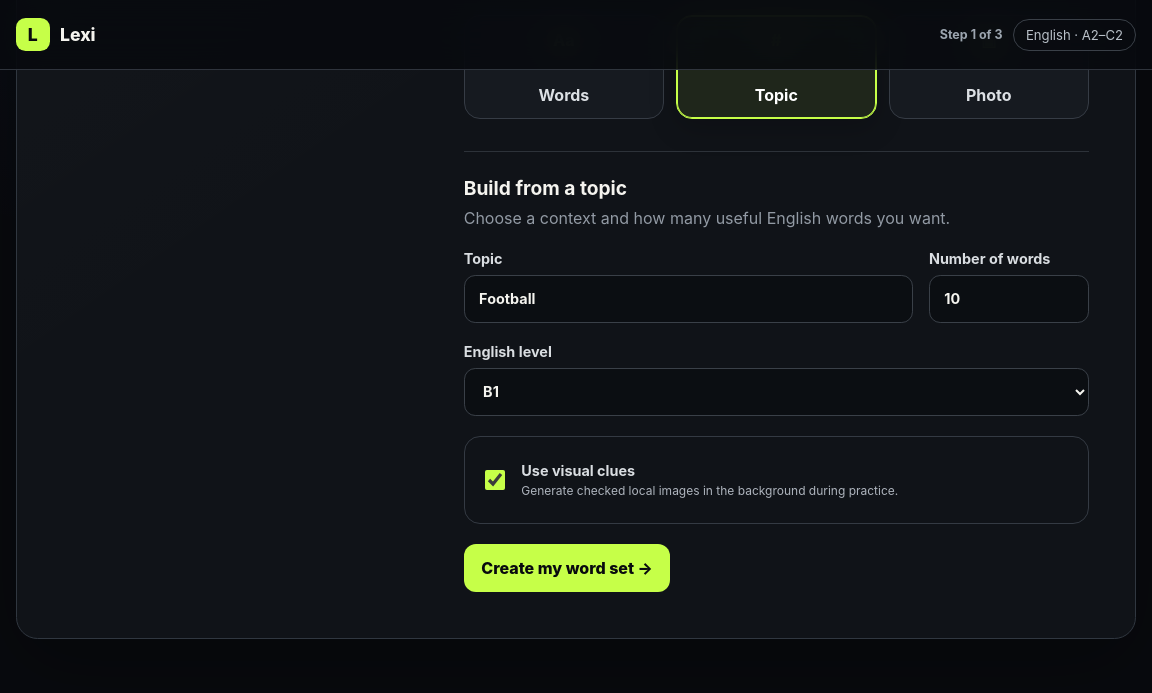
Test case: VocabularyPage › creates a draft-backed study session before training
(page scrolled)
Submit the form named "Create my word set", box [464,151,1089,592]
(page scrolled)
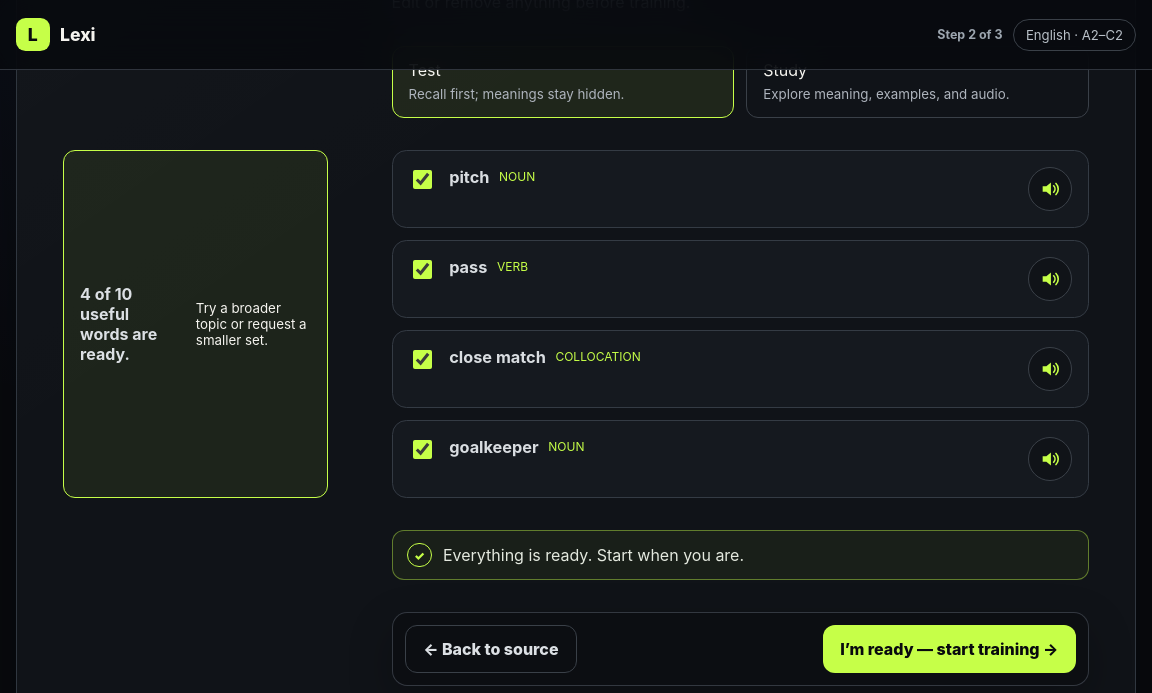
Click the button "I’m ready — start training →": (949, 650) [822,626,1076,674]
(page scrolled)
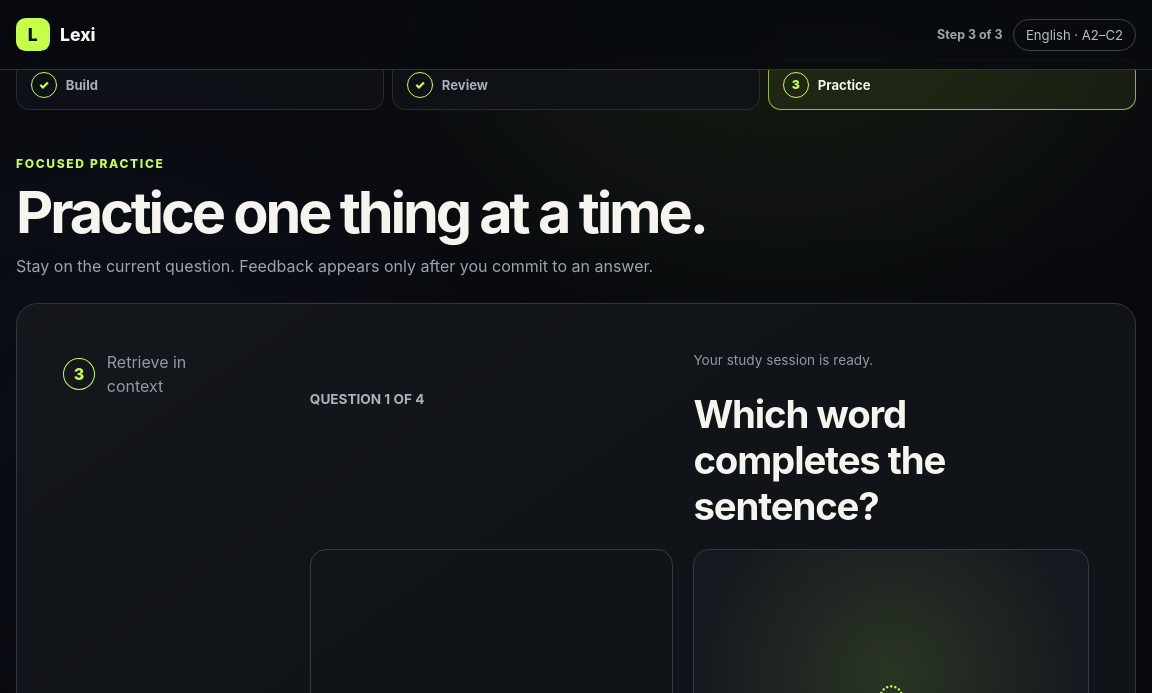
Expected: the text "Your study session is ready." is shown, [693,352,873,368]
